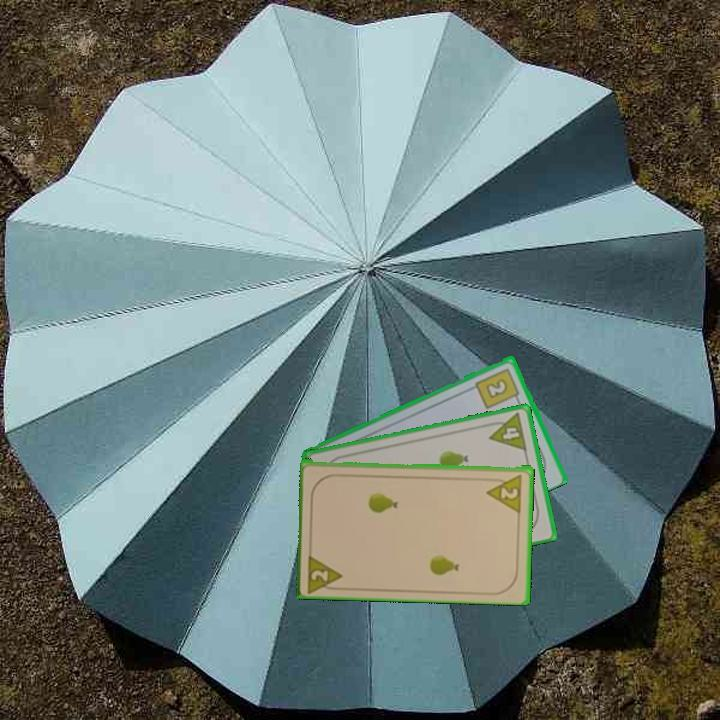2b: (472, 364, 523, 411)
2p: (304, 549, 346, 594), (484, 470, 525, 514)
4p: (483, 409, 530, 454)
